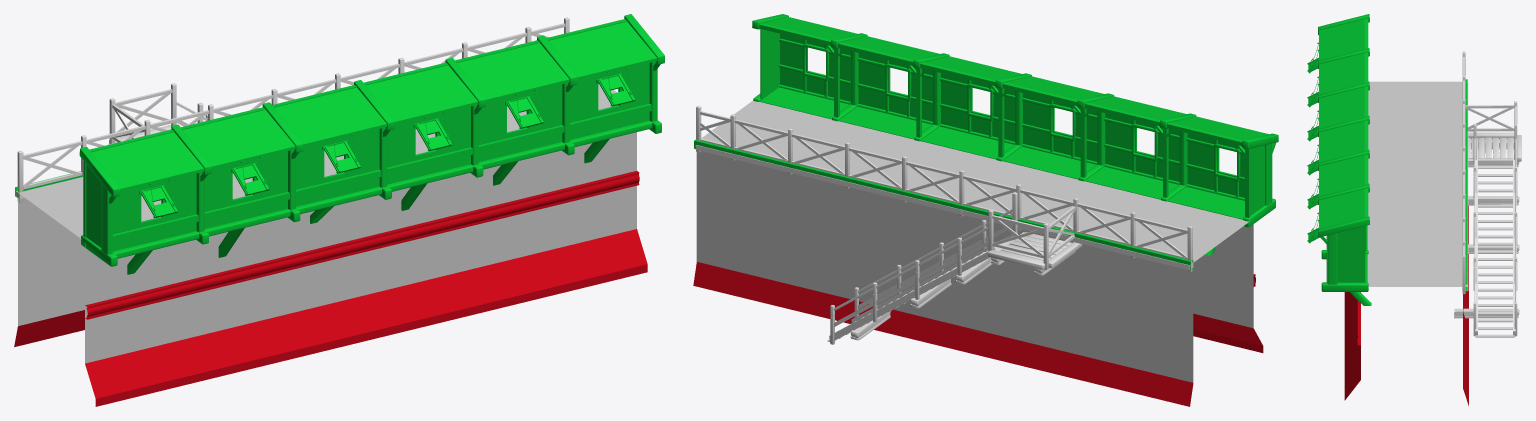
File: Wall_2v2.fbx
The picture shows the model from 3 angles, left to right: view 1: azimuth 30°, elevation 25°; view 2: azimuth 150°, elevation 25°; view 3: azimuth 270°, elevation 25°; orthographic projection. The views are drawn at different scales.
Visible parts, largest first — view 1: Group_4.015, Group_4.028, Group_3.009, Group_3.005, Group_4.024, Group_4.026, Group_4.016, Group_4.025, Group_4.027, Group_4.023; view 2: Group_4.015, Group_4.028, Group_3.009, Group_3.005, Group_3.010; view 3: Group_4.015, Group_4.028, Group_3.005, Group_3.009.
Boxes of the visible parts, x1,y1,x2,y2 form: Group_4.015: (14, 84, 647, 406); Group_4.028: (79, 14, 664, 274); Group_3.009: (15, 17, 569, 202); Group_3.005: (108, 83, 207, 144); Group_4.024: (415, 119, 452, 151); Group_4.026: (232, 163, 269, 195); Group_4.016: (598, 74, 634, 106); Group_4.025: (324, 141, 360, 173); Group_4.027: (141, 186, 177, 218); Group_4.023: (507, 96, 543, 128); Group_4.015: (693, 100, 1263, 406); Group_4.028: (752, 14, 1278, 255); Group_3.009: (695, 106, 1193, 272); Group_3.005: (827, 192, 1082, 344); Group_3.010: (1018, 189, 1075, 242); Group_4.015: (1344, 79, 1468, 405); Group_4.028: (1318, 14, 1371, 305); Group_3.005: (1454, 101, 1521, 337); Group_3.009: (1462, 51, 1468, 294).
Size of the model in its own units: 1800 by 769 by 793.
